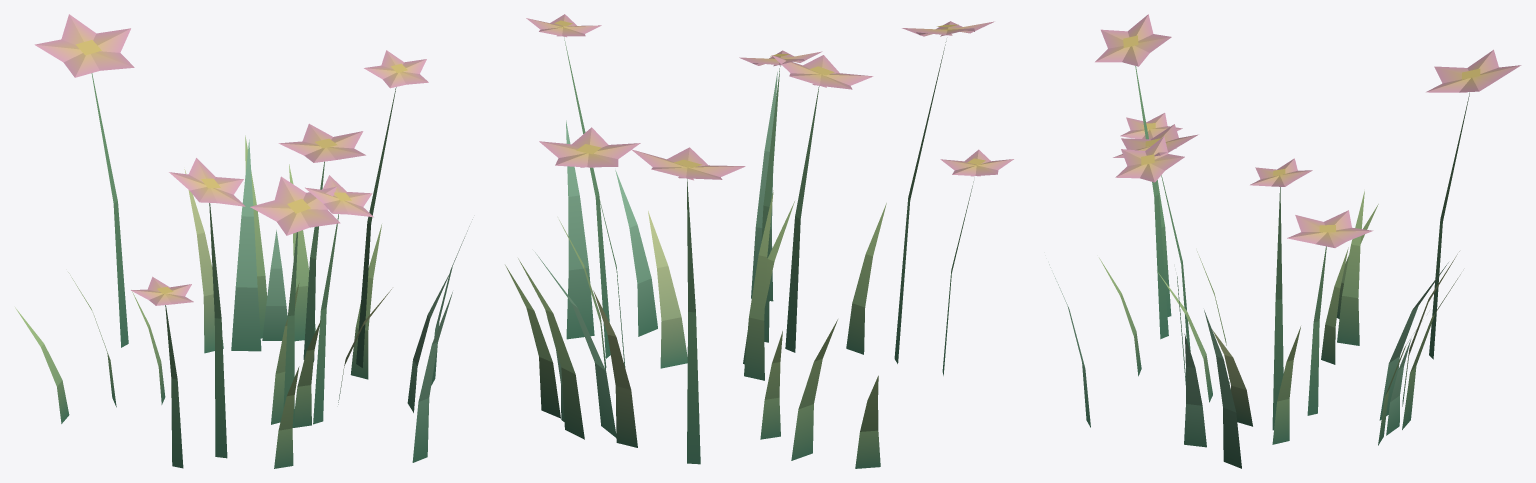
The model's file is SM_GR_Flowers_Pink.fbx.
3 views of the same model, side by side, from view 1: azimuth 30°, elevation 25°; view 2: azimuth 150°, elevation 25°; view 3: azimuth 270°, elevation 25° (orthographic). The views are drawn at different scales.
Parts seen in each view (by area): view 1: SM_GR_Flowers_Pink; view 2: SM_GR_Flowers_Pink; view 3: SM_GR_Flowers_Pink.
Boxes of the visible parts, x1,y1,x2,y2 form: SM_GR_Flowers_Pink: (15,14,472,468); SM_GR_Flowers_Pink: (505,14,1013,468); SM_GR_Flowers_Pink: (1049,14,1521,468).
Bounding box in the file's own units: 61.85 × 50.9 × 71.93.
